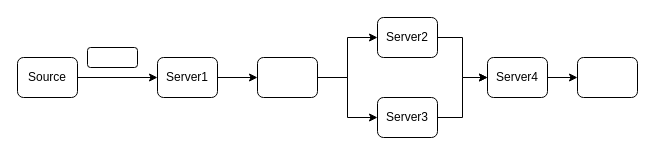
This 655x155 diagram has some shape labels left out. The shapes that lost their labels are listed below. From the top down, each one's centre as x and y in pixels, then its label:
At [112,57]: "Entity".
At [287,77]: "Brancher".
At [607,77]: "Sink".
